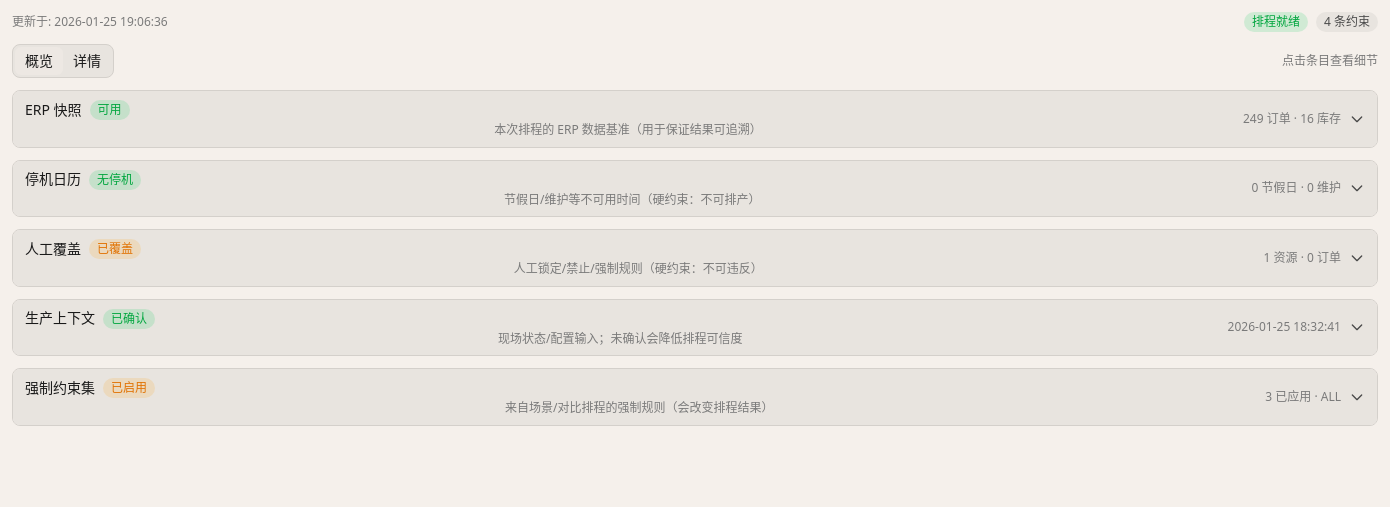
Test: ConstraintsPanel › hides verbose downtime details until expanded in overview
Expected: the text "停机日历" is shown, x1=25 y1=169 x2=81 y2=189
Expected: the text "当前甘特图已应用" is not shown
Click the button "停机日历 无停机 节假日/维护等不可用时间（硬约束：不可排产） 0 节假日 · 0 维护".
click(695, 188)  # box x1=13 y1=160 x2=1377 y2=216
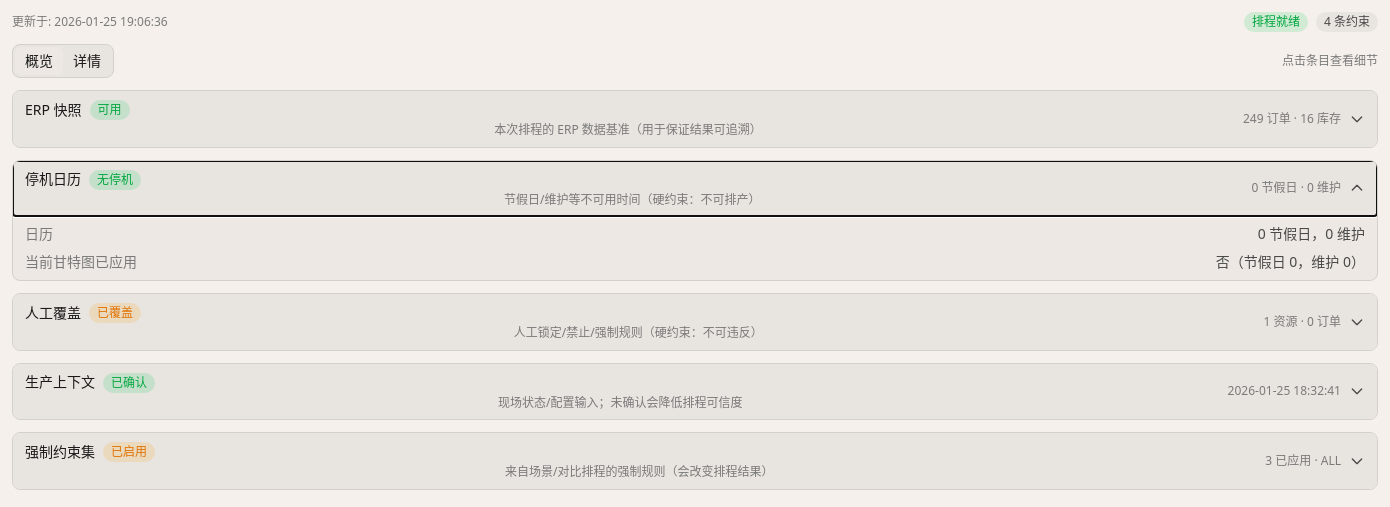
Expected: the text "当前甘特图已应用" is shown, x1=25 y1=252 x2=137 y2=272
